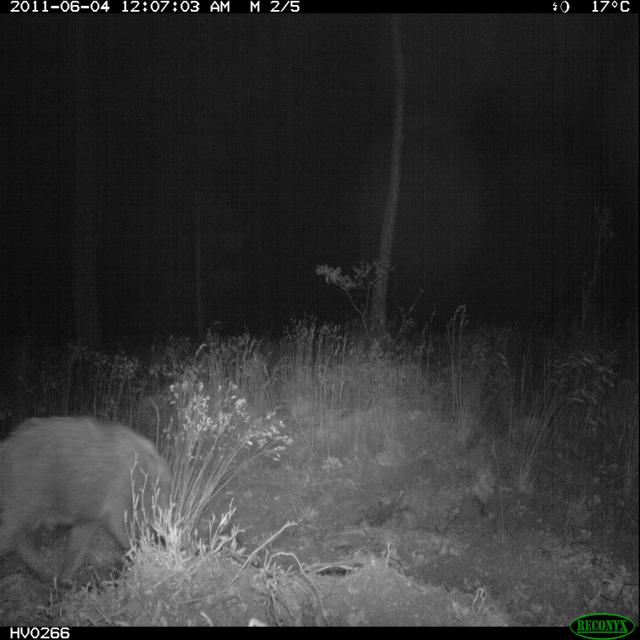boar: (0, 396, 202, 603)
